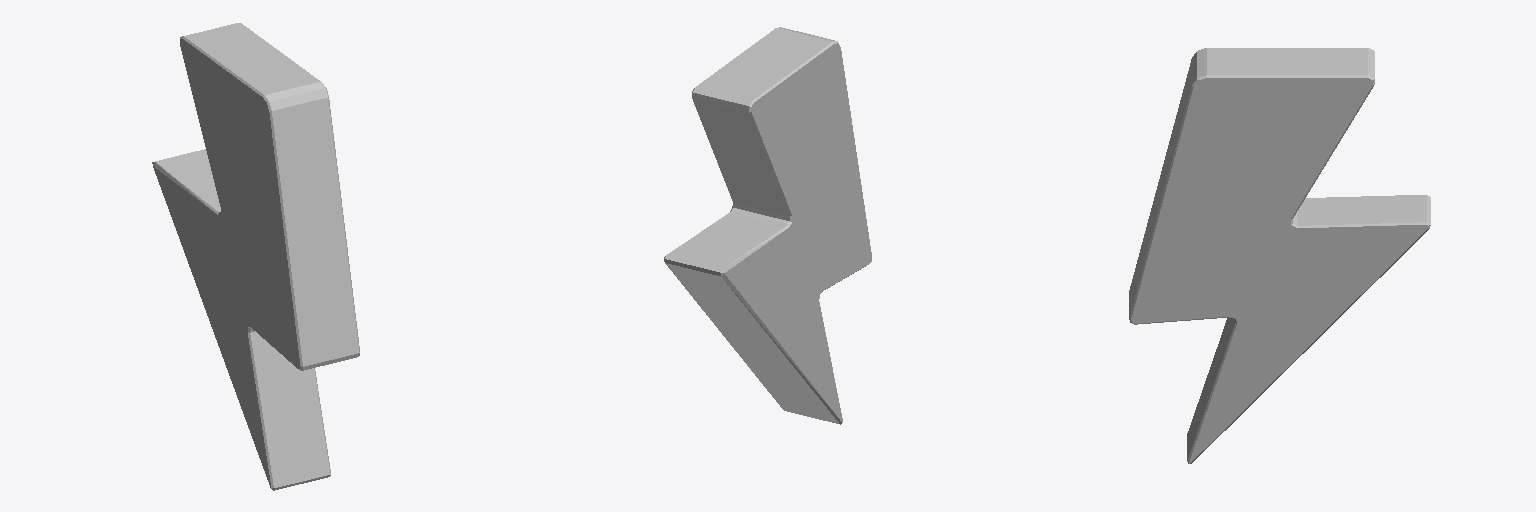
Rendered from rayo.obj.
3 views of the same model, side by side, from view 1: azimuth 30°, elevation 25°; view 2: azimuth 150°, elevation 25°; view 3: azimuth 270°, elevation 25° (orthographic).
Parts seen in each view (by area): view 1: pCube1; view 2: pCube1; view 3: pCube1.
Boxes of the visible parts, box(x1,y1,x2,y2) form: pCube1: box(152, 23, 359, 490); pCube1: box(664, 27, 871, 424); pCube1: box(1129, 48, 1430, 463).
Size of the model in its own units: 0.3299 by 2.05 by 1.44.